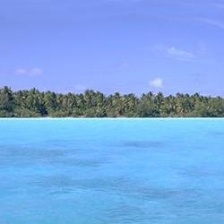neutral: (1, 78, 224, 144)
